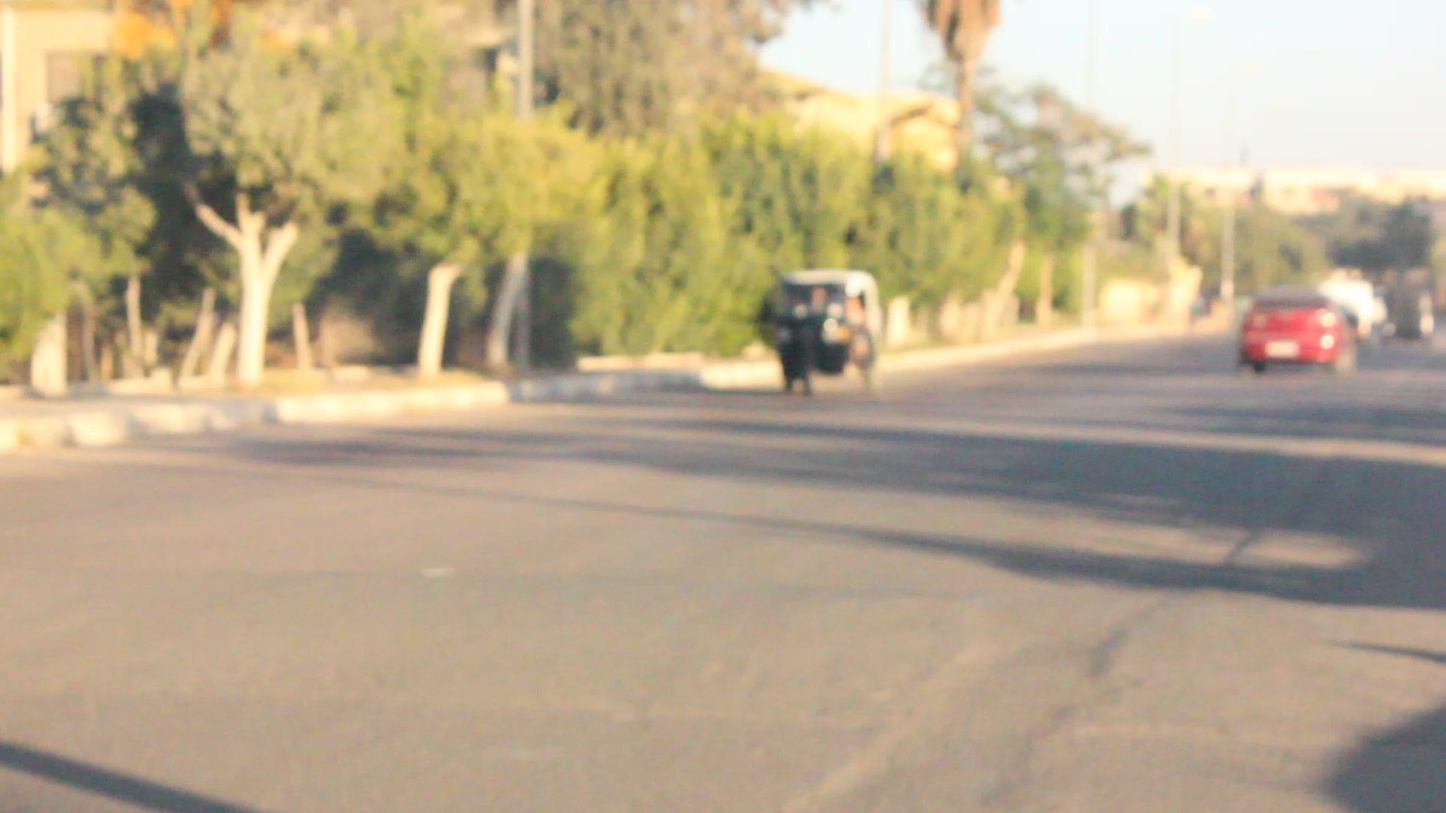Pothole: (796, 521, 1250, 807)
